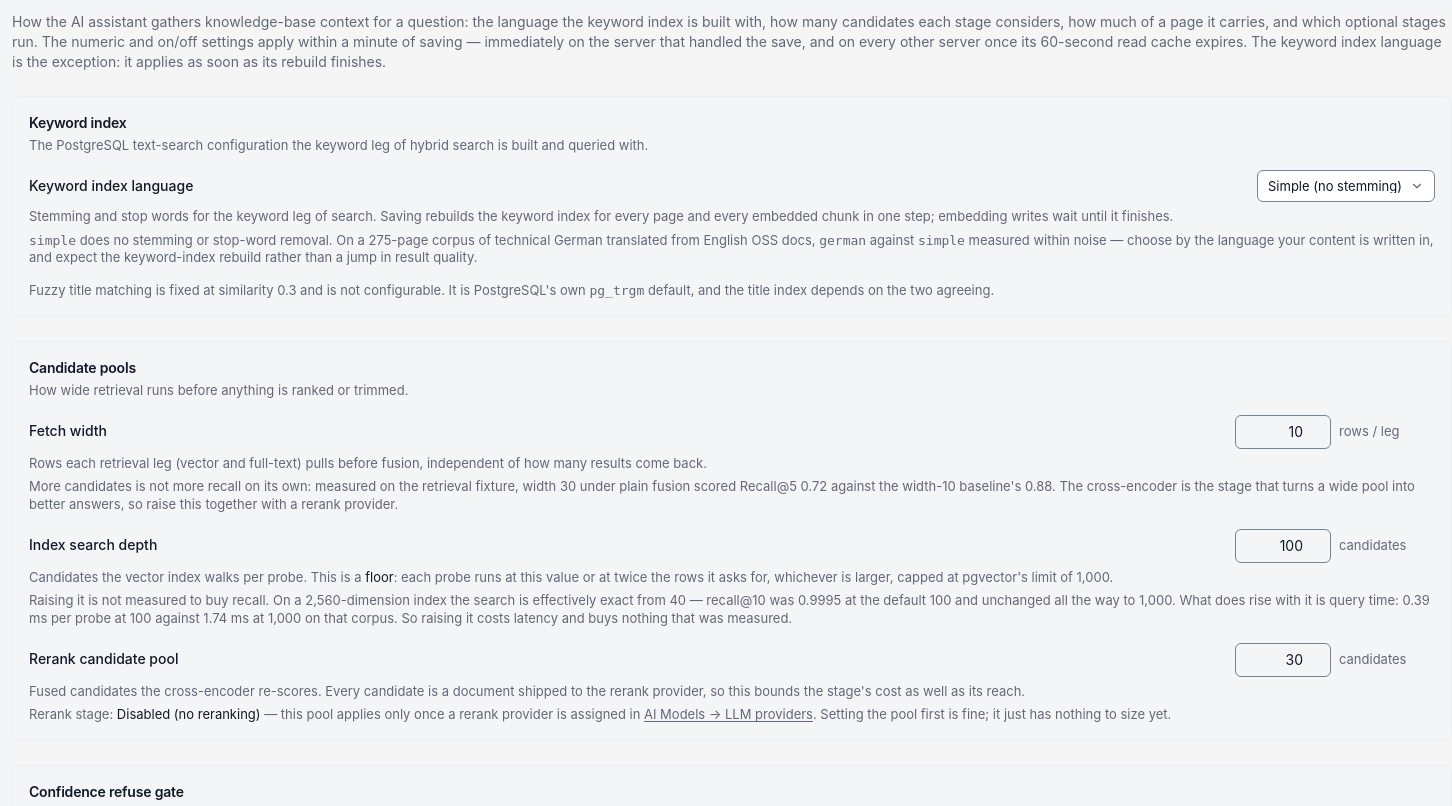
Test: RetrievalTab — keyword index language (#1114) › warns that simple does no stemming — and only while simple is selected
This screenshot has width=1452, height=806.
Expected: the element with test id "retrieval-fts-simple-hint" shows "does no stemming", x1=76 y1=232 x2=816 y2=248
Select "German" in the dropdown with test id "retrieval-ftsLanguage" at (1346, 186), box x1=1257 y1=170 x2=1435 y2=202
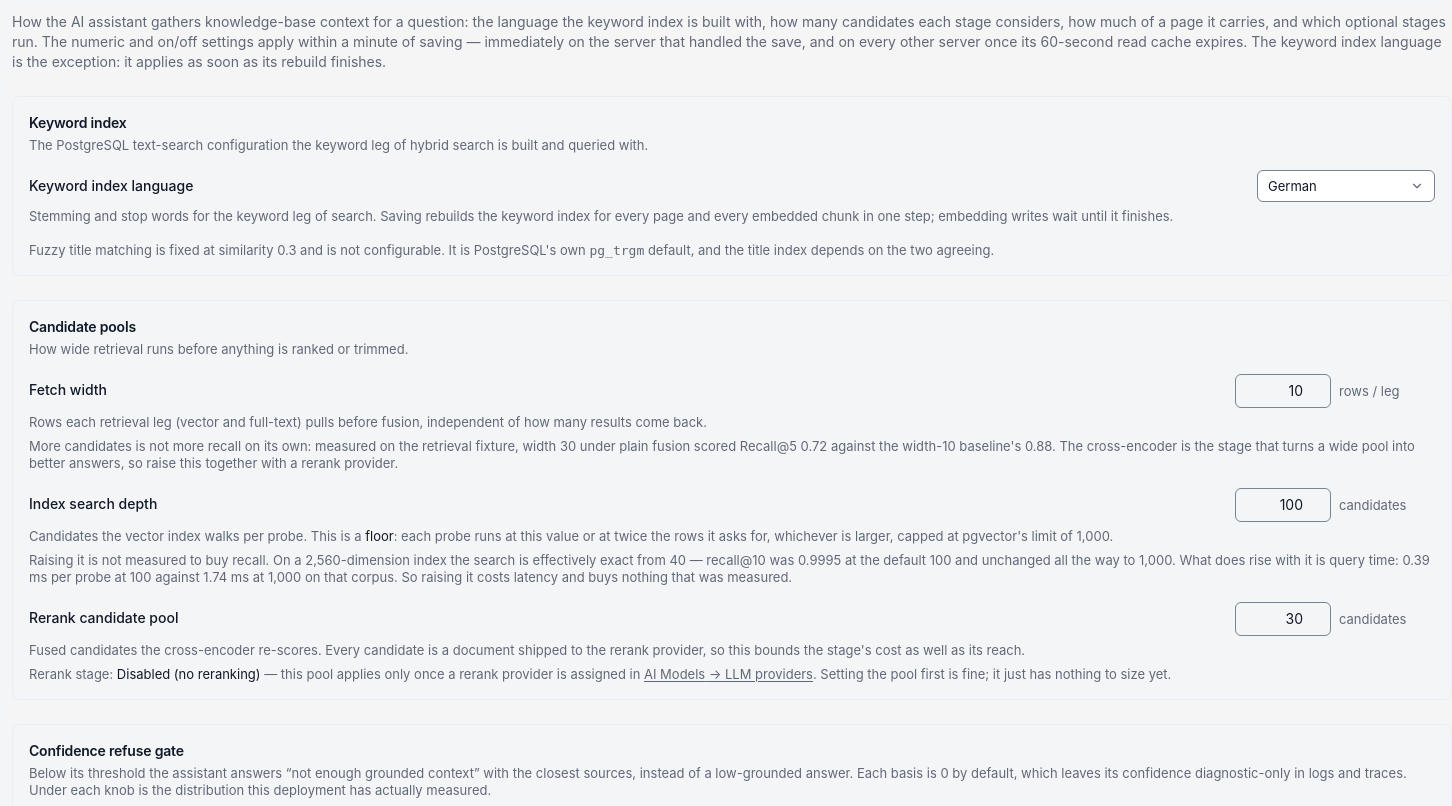
Now the element with test id "retrieval-fts-simple-hint" is gone
